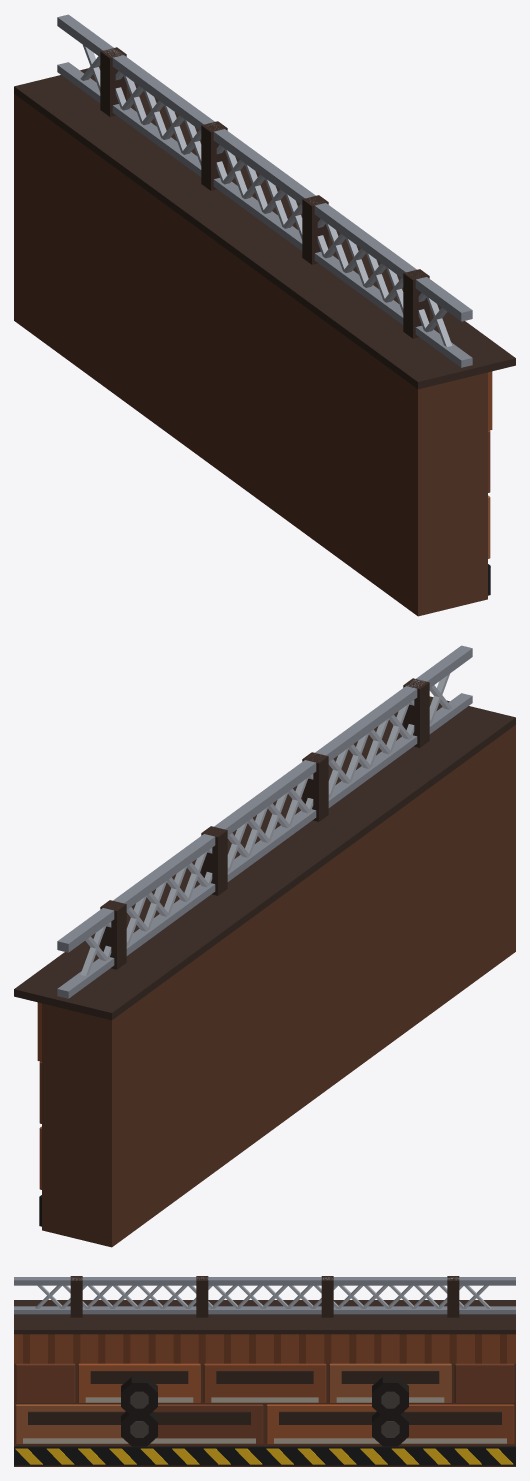
Rendered from miniarena_wall_side.glb.
The picture shows the model from 3 angles, top to bottom: view 1: azimuth 30°, elevation 25°; view 2: azimuth 150°, elevation 25°; view 3: azimuth 270°, elevation 25°; orthographic projection. The views are drawn at different scales.
Visible parts, largest first — view 1: miniarena_wall_side; view 2: miniarena_wall_side; view 3: miniarena_wall_side.
Boxes of the visible parts, <box> form: miniarena_wall_side: <box>14,14,515,616</box>; miniarena_wall_side: <box>14,645,515,1247</box>; miniarena_wall_side: <box>14,1276,515,1466</box>.
Bounding box in the file's own units: 1.4 × 4 × 10.
1 material, 1 textured.
